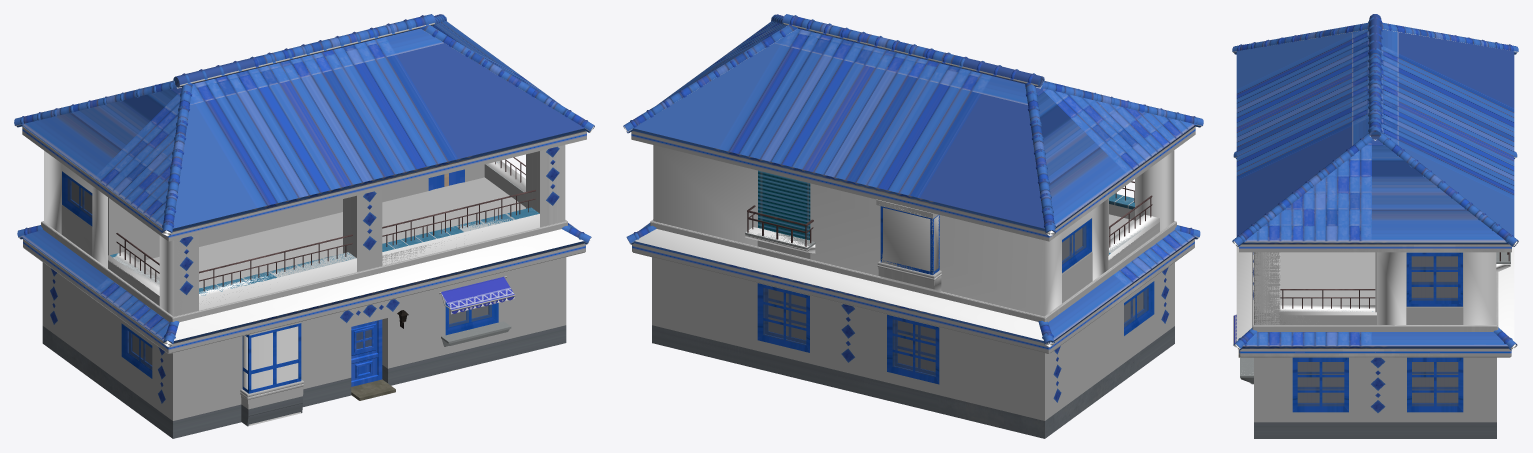
File: objects_un_c02house02_s0.gltf
3 views of the same model, side by side, from view 1: azimuth 30°, elevation 25°; view 2: azimuth 150°, elevation 25°; view 3: azimuth 270°, elevation 25° (orthographic). The views are drawn at different scales.
Visible parts, largest first — view 1: um_objects_un_c02house02_s0_model_lod0Shape:objects_un_c02ho (×8), um_objects_un_c02house02_s0_model_lod1Shape:objects_un_c02ho (×6), um_objects_un_c02house02_s0_model_lod2Shape:objects_un_c02ho (×6); view 2: um_objects_un_c02house02_s0_model_lod0Shape:objects_un_c02ho (×6), um_objects_un_c02house02_s0_model_lod1Shape:objects_un_c02ho (×6), um_objects_un_c02house02_s0_model_lod2Shape:objects_un_c02ho (×7); view 3: um_objects_un_c02house02_s0_model_lod1Shape:objects_un_c02ho (×4), um_objects_un_c02house02_s0_model_lod0Shape:objects_un_c02ho (×5), um_objects_un_c02house02_s0_model_lod2Shape:objects_un_c02ho (×6).
Boxes of the visible parts, x1,y1,x2,y2 form: um_objects_un_c02house02_s0_model_lod0Shape:objects_un_c02ho (×8): (14, 14, 594, 438); um_objects_un_c02house02_s0_model_lod1Shape:objects_un_c02ho (×6): (21, 16, 587, 438); um_objects_un_c02house02_s0_model_lod2Shape:objects_un_c02ho (×6): (28, 16, 585, 438); um_objects_un_c02house02_s0_model_lod0Shape:objects_un_c02ho (×6): (623, 14, 1203, 438); um_objects_un_c02house02_s0_model_lod1Shape:objects_un_c02ho (×6): (631, 16, 1196, 438); um_objects_un_c02house02_s0_model_lod2Shape:objects_un_c02ho (×7): (626, 17, 1191, 438); um_objects_un_c02house02_s0_model_lod1Shape:objects_un_c02ho (×4): (1236, 23, 1514, 406); um_objects_un_c02house02_s0_model_lod0Shape:objects_un_c02ho (×5): (1232, 14, 1518, 384); um_objects_un_c02house02_s0_model_lod2Shape:objects_un_c02ho (×6): (1243, 23, 1517, 438).
Size of what is drawn, in the model's own units: 15.45 by 10.19 by 9.51.
Materials: 12 (9 with a texture image).
